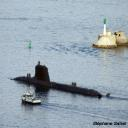submarine: (12, 65, 111, 101)
